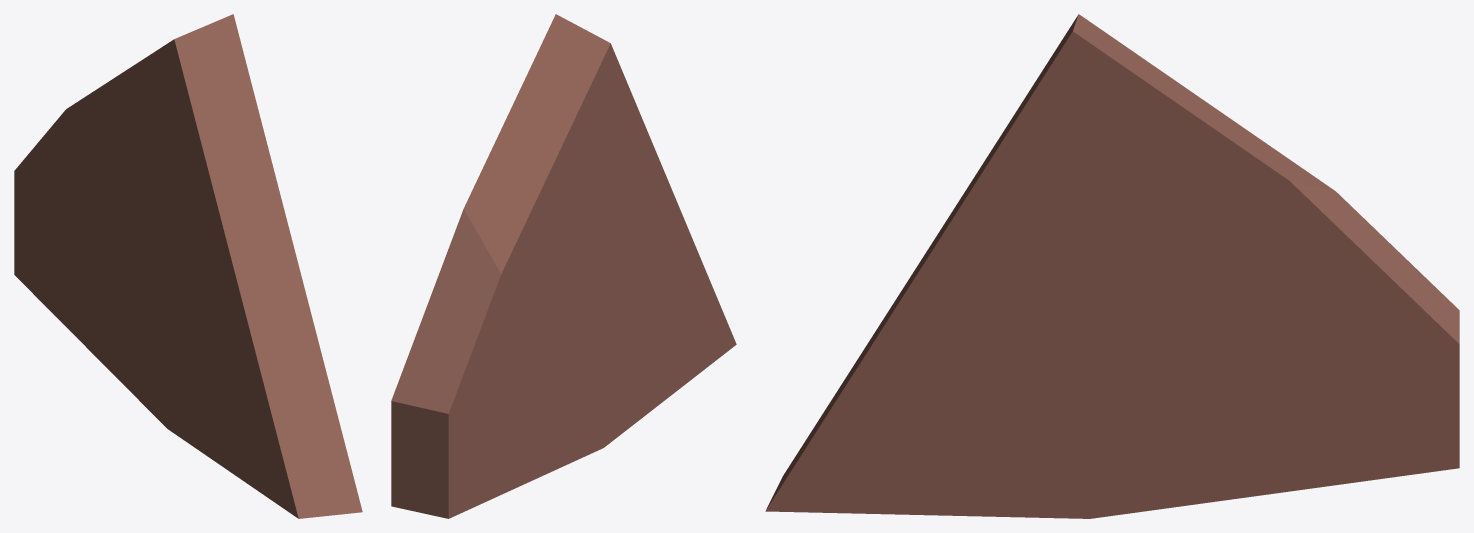
The model's file is T_MurDetruit_6.8.fbx.
3 views of the same model, side by side, from view 1: azimuth 30°, elevation 25°; view 2: azimuth 150°, elevation 25°; view 3: azimuth 270°, elevation 25° (orthographic). The views are drawn at different scales.
Visible parts, largest first — view 1: T_MurDetruit_6.8; view 2: T_MurDetruit_6.8; view 3: T_MurDetruit_6.8.
Part boxes in pixels (<box>): T_MurDetruit_6.8: <box>14,14,362,518</box>; T_MurDetruit_6.8: <box>391,14,736,518</box>; T_MurDetruit_6.8: <box>765,14,1459,518</box>.
Bounding box in the file's own units: 13.48 × 93.04 × 120.
